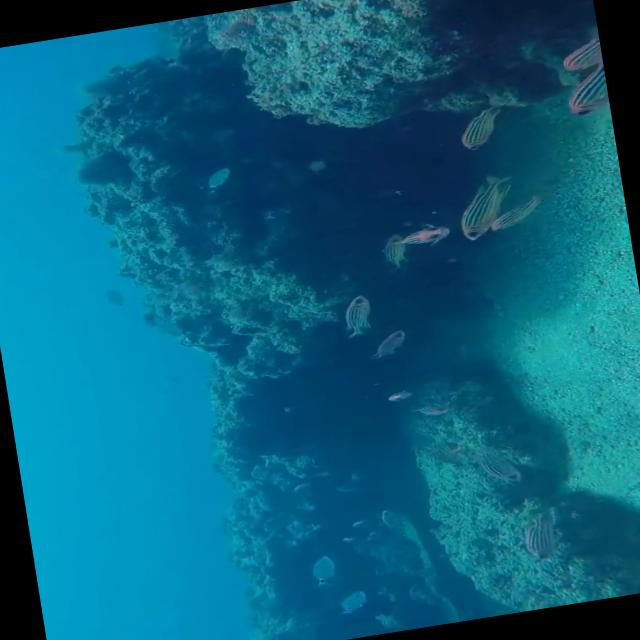Asker Baligi: (445, 175, 532, 247), (508, 504, 570, 574), (440, 105, 523, 155), (334, 294, 379, 342)
